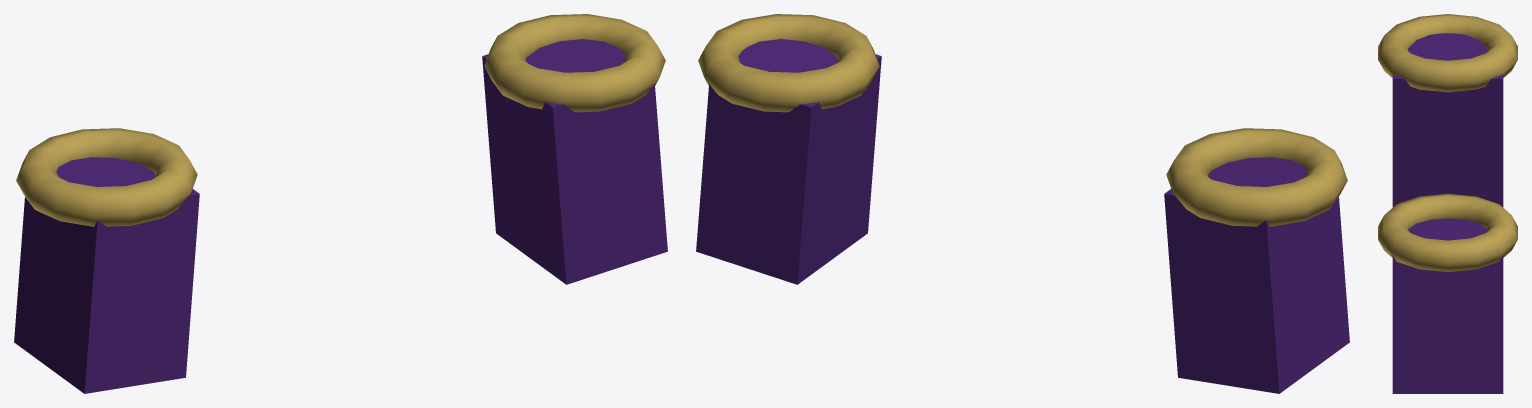
The model's file is hands.glb.
3 renders of one model, left to right at view 1: azimuth 30°, elevation 25°; view 2: azimuth 150°, elevation 25°; view 3: azimuth 270°, elevation 25°, orthographic. The views are drawn at different scales.
Parts seen in each view (by area): view 1: gauntlet_-1, gauntlet_1, cuff_-1, cuff_1; view 2: gauntlet_-1, gauntlet_1, cuff_-1, cuff_1; view 3: gauntlet_1, gauntlet_-1, cuff_1, cuff_-1.
Part boxes in pixels (bbox=[...]): gauntlet_-1: bbox=[14, 157, 199, 393]; gauntlet_1: bbox=[482, 39, 667, 284]; cuff_-1: bbox=[16, 128, 197, 226]; cuff_1: bbox=[484, 14, 665, 112]; gauntlet_-1: bbox=[1164, 157, 1349, 393]; gauntlet_1: bbox=[696, 39, 881, 284]; cuff_-1: bbox=[1166, 128, 1347, 226]; cuff_1: bbox=[698, 14, 879, 112]; gauntlet_1: bbox=[1392, 218, 1503, 393]; gauntlet_-1: bbox=[1392, 33, 1503, 207]; cuff_1: bbox=[1378, 193, 1517, 271]; cuff_-1: bbox=[1378, 14, 1517, 92].
Size of the model in its own units: 1.23 by 0.3816 by 0.3022.
